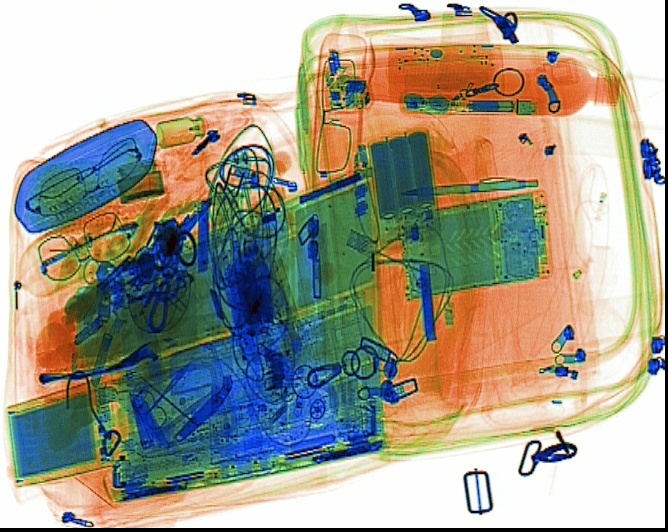powerbank: (361, 122, 440, 251)
